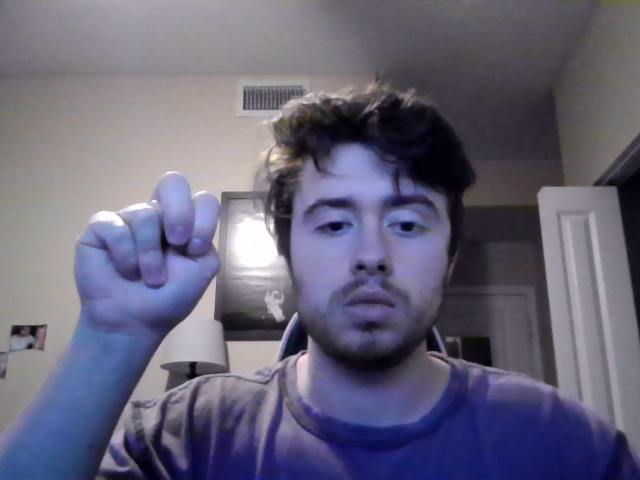n: (73, 171, 222, 343)
